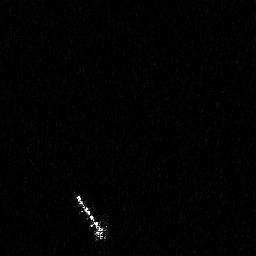ship: (74, 192, 107, 242)
